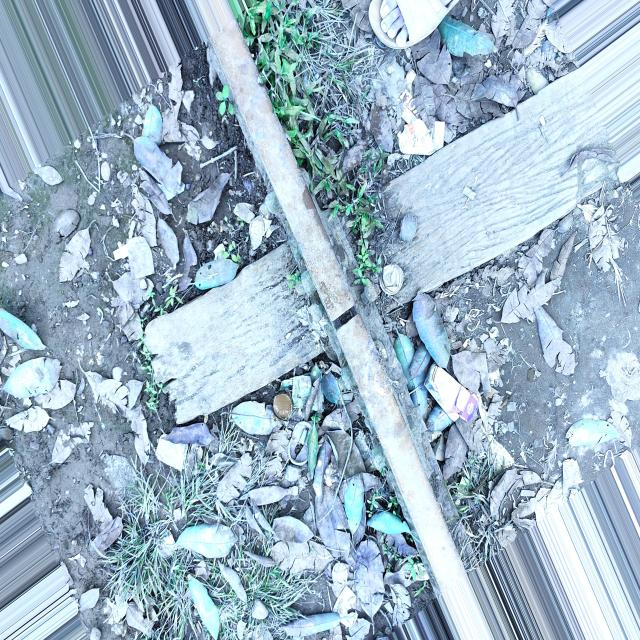crack: (317, 284, 380, 356)
